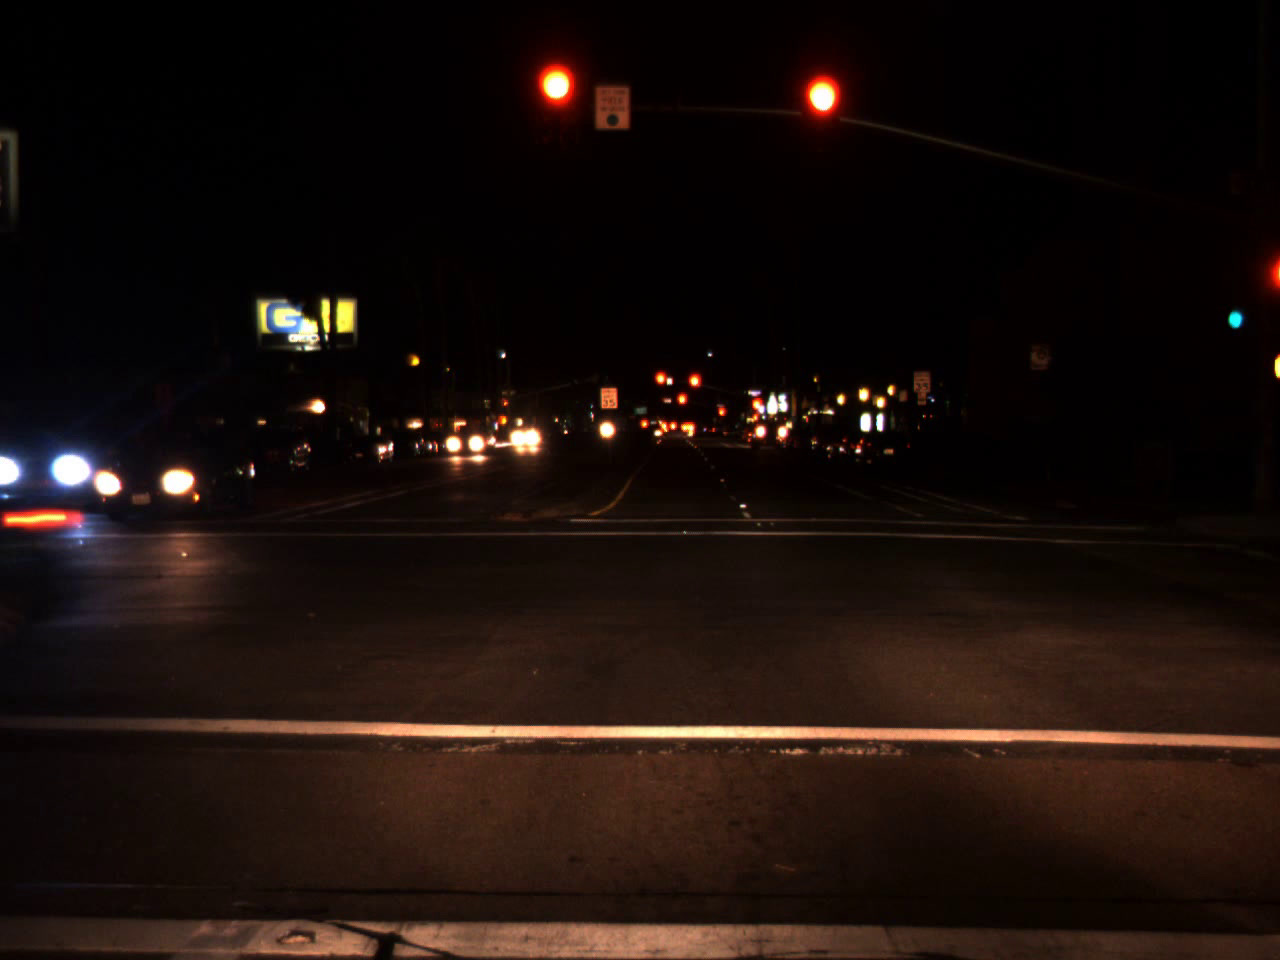stop: (537, 65, 577, 143), (802, 76, 839, 154), (653, 369, 671, 401), (686, 371, 702, 403), (676, 391, 688, 418), (749, 396, 764, 414), (717, 406, 727, 427), (503, 398, 509, 414)
